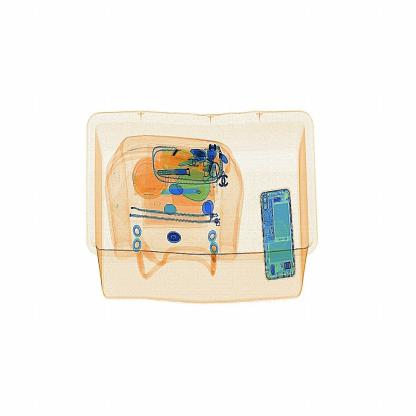pliers: (158, 177, 212, 205)
